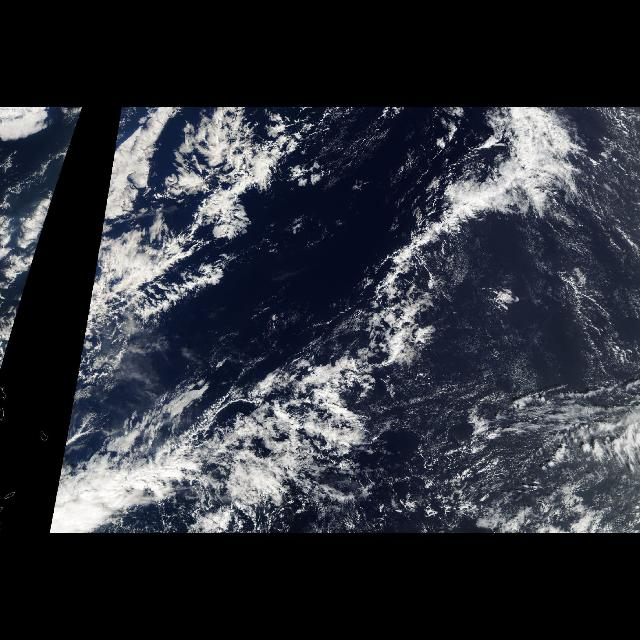Fish: (46, 109, 582, 533)
